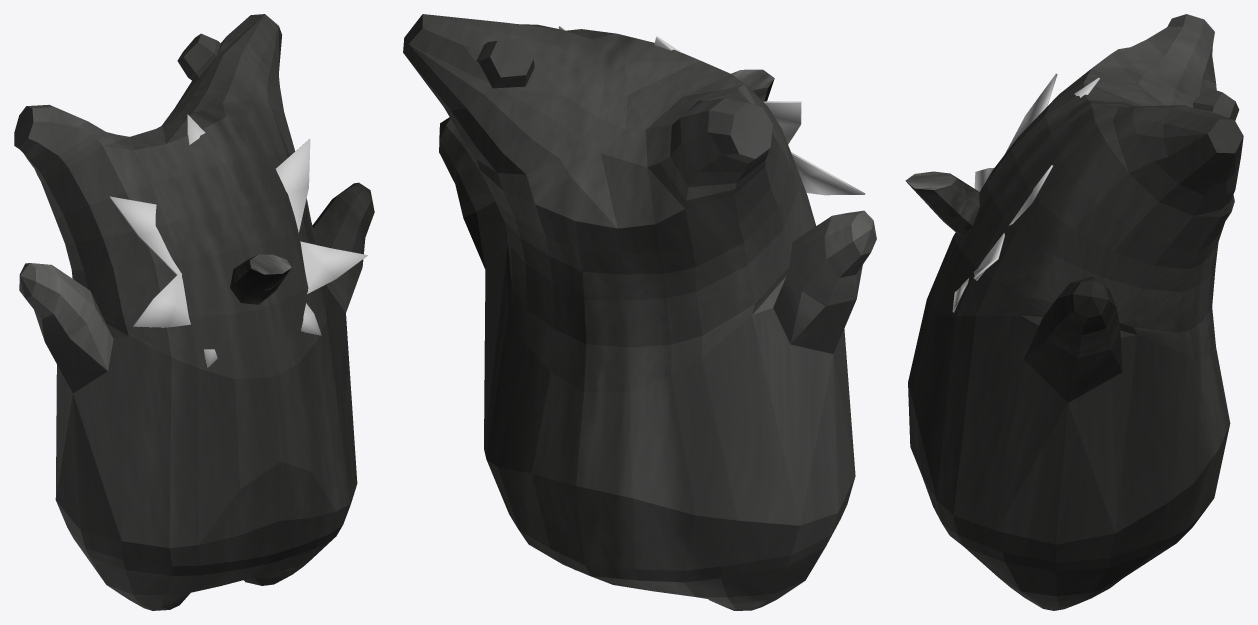
The model's file is frame_0021.obj.
3 renders of one model, left to right at view 1: azimuth 30°, elevation 25°; view 2: azimuth 150°, elevation 25°; view 3: azimuth 270°, elevation 25°, orthographic. The views are drawn at different scales.
Parts seen in each view (by area): view 1: korok, leaf.003_柱体.013, nose.003_柱体.011; view 2: korok, leaf.003_柱体.013, nose.003_柱体.011; view 3: korok, nose.003_柱体.011, leaf.003_柱体.013.
Boxes of the visible parts, <box> form: korok: <box>14,14,374,610</box>; leaf.003_柱体.013: <box>109,114,367,367</box>; nose.003_柱体.011: <box>230,254,291,304</box>; korok: <box>403,14,876,610</box>; leaf.003_柱体.013: <box>558,26,865,195</box>; nose.003_柱体.011: <box>731,69,774,101</box>; korok: <box>908,14,1243,610</box>; nose.003_柱体.011: <box>905,171,979,236</box>; leaf.003_柱体.013: <box>952,73,1099,312</box>.
Size of the model in its own units: 1.55 by 2.09 by 1.21.
